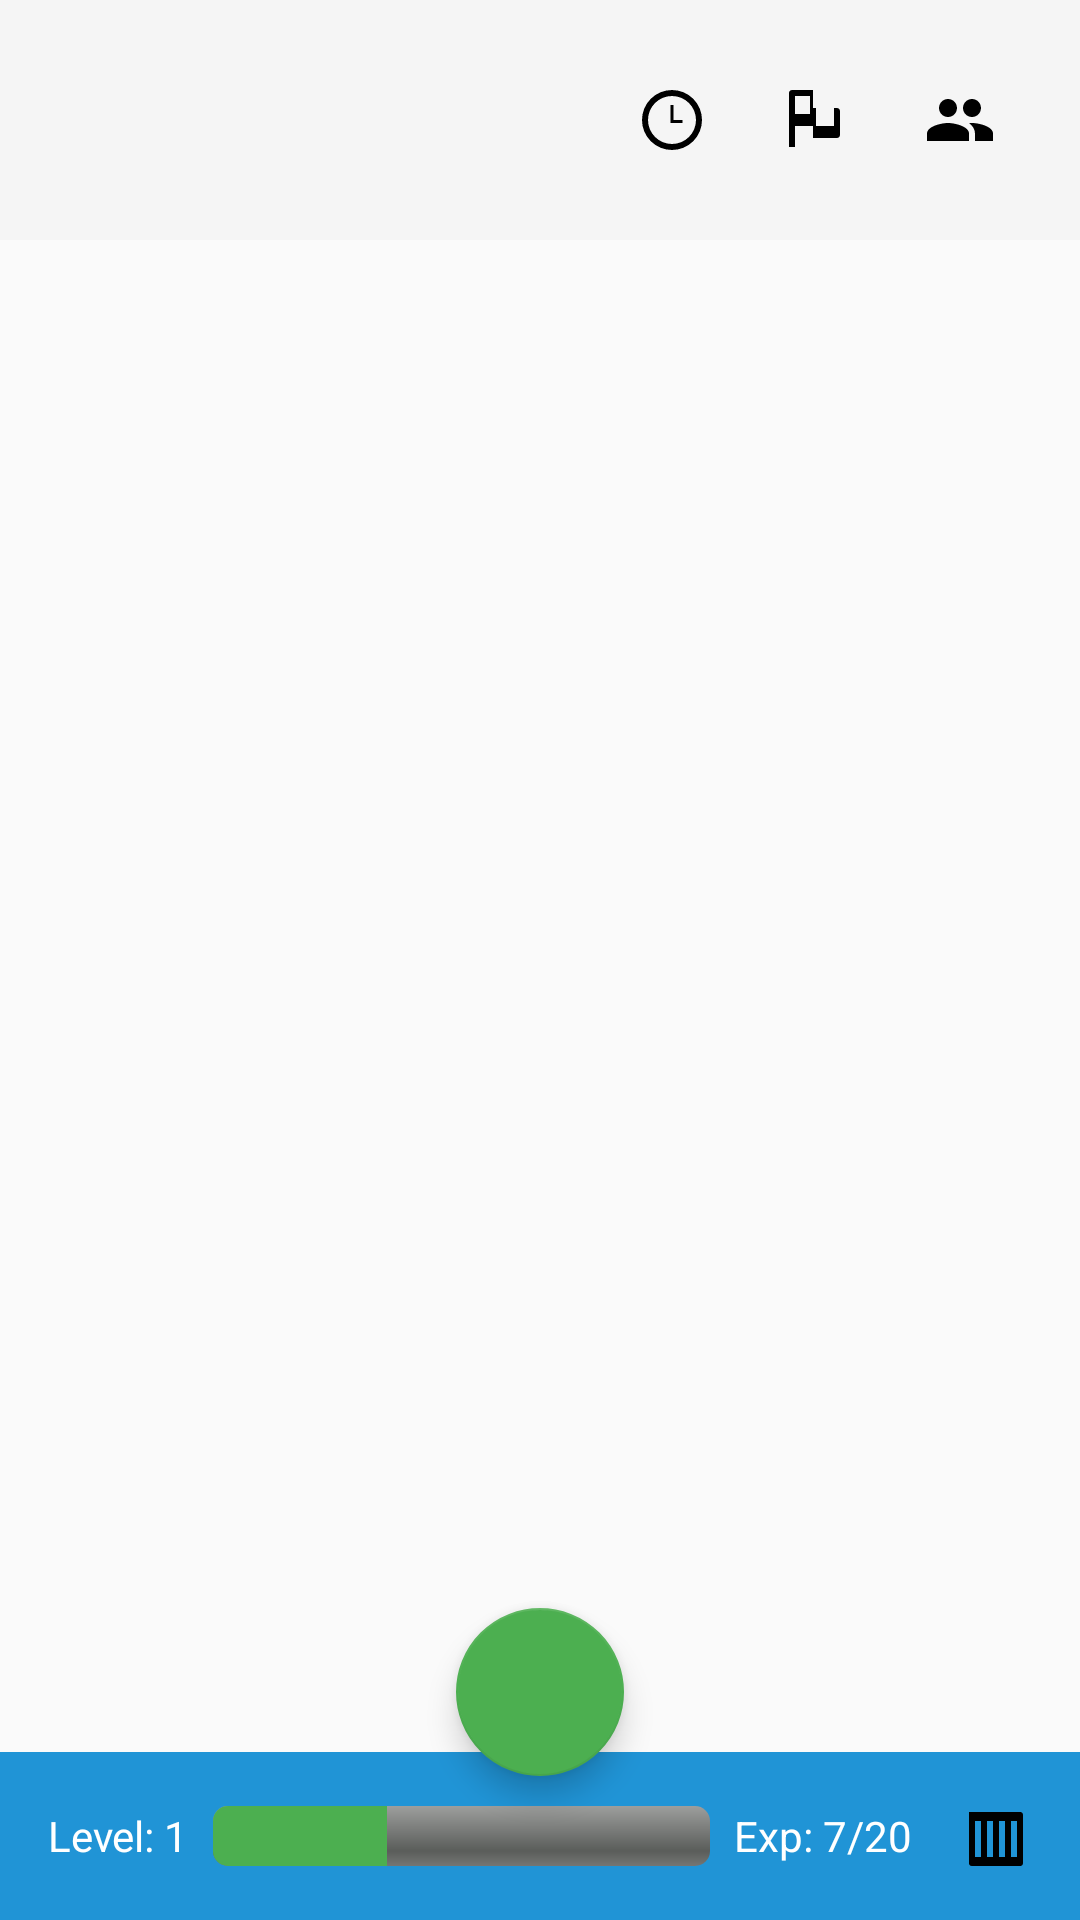

Where icons sit on this 1080 × 1920 app screen, as bbox=(x1, y1, x2, y2):
Flag: bbox=(789, 90, 840, 147)
History: bbox=(642, 90, 702, 150)
Open Library: bbox=(969, 1812, 1023, 1866)
People: bbox=(927, 99, 993, 141)
